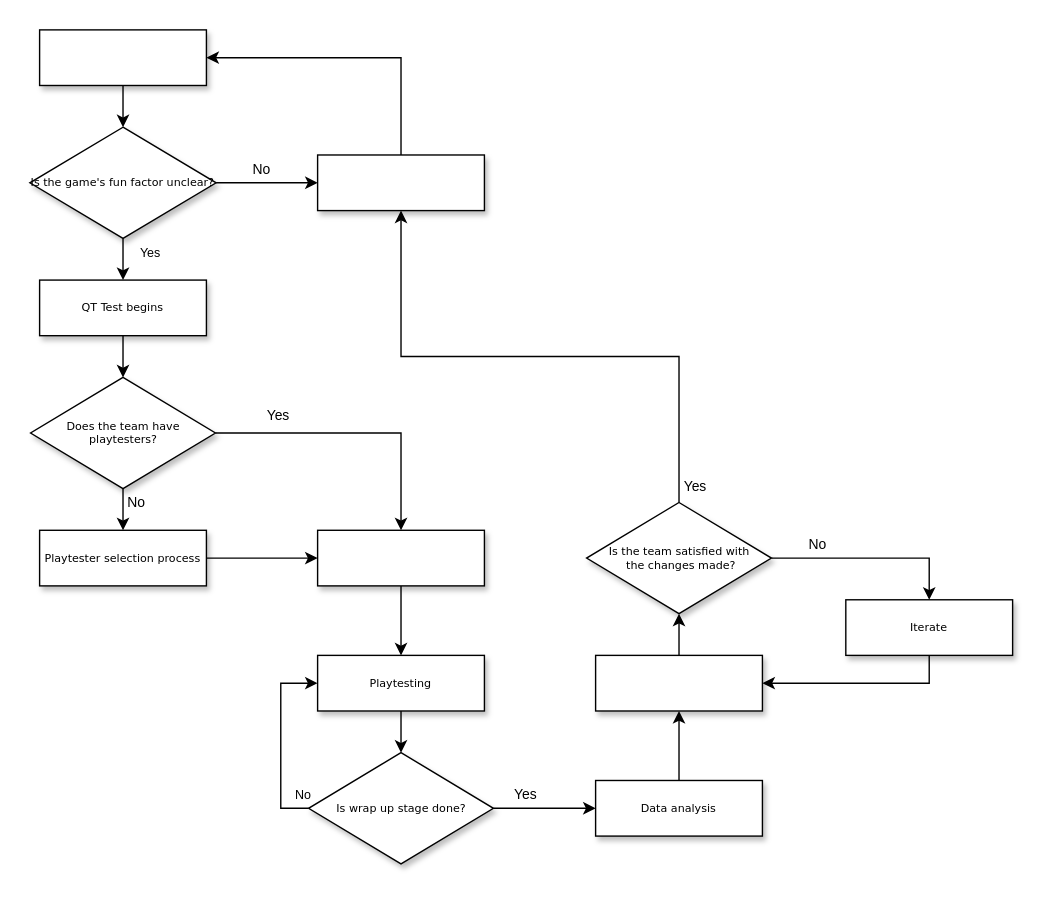
This 1045x898 diagram has some shape labels left out. The shapes that lost their labels are listed below. From the top down, each one's centre as x and y in pixels, then its label:
At (124,59): "New build".
At (402,184): "Proceed into a new build".
At (402,559): "Proposed QT proccess begins".
At (680,684): "Changes proposed".
